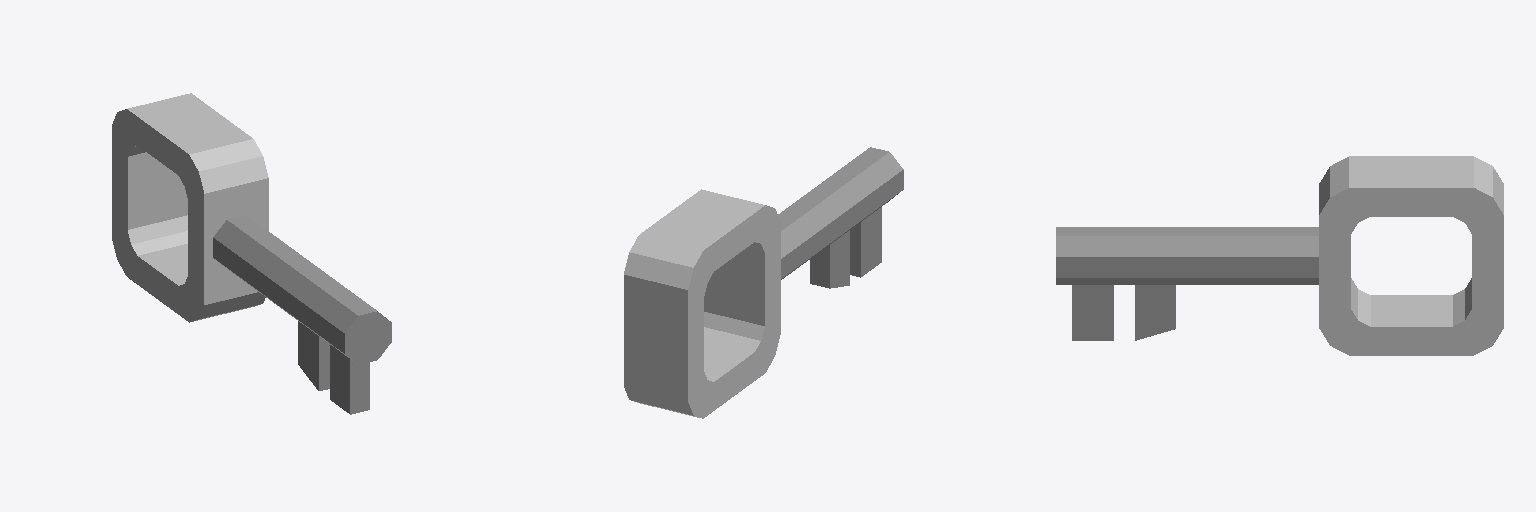
The model's file is key.obj.
3 views of the same model, side by side, from view 1: azimuth 30°, elevation 25°; view 2: azimuth 150°, elevation 25°; view 3: azimuth 270°, elevation 25° (orthographic).
Visible parts, largest first — view 1: Cube.001, Cube; view 2: Cube.001, Cube; view 3: Cube.001, Cube.
Part boxes in pixels (bbox=[...]): Cube.001: bbox=[112, 93, 268, 322]; Cube: bbox=[213, 215, 391, 414]; Cube.001: bbox=[624, 189, 780, 418]; Cube: bbox=[778, 147, 903, 288]; Cube.001: bbox=[1319, 156, 1503, 355]; Cube: bbox=[1056, 227, 1318, 340].
Size of the model in its own units: 0.8028 by 2 by 4.84.